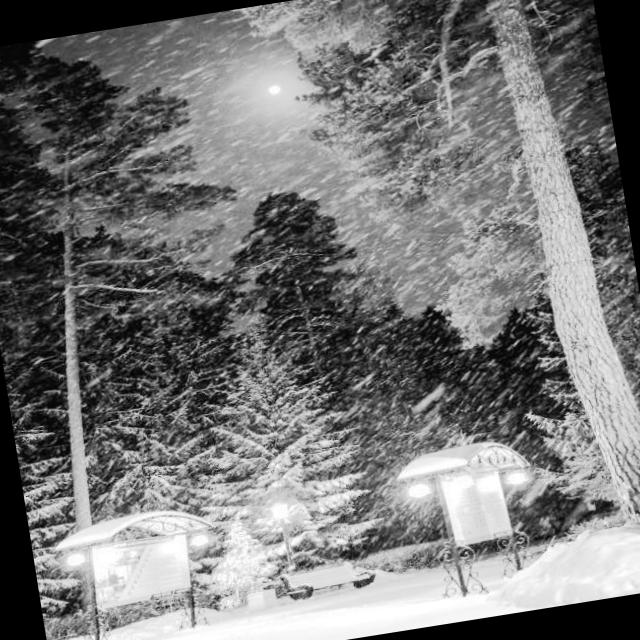Tree: (270, 0, 640, 531), (50, 266, 365, 582)
